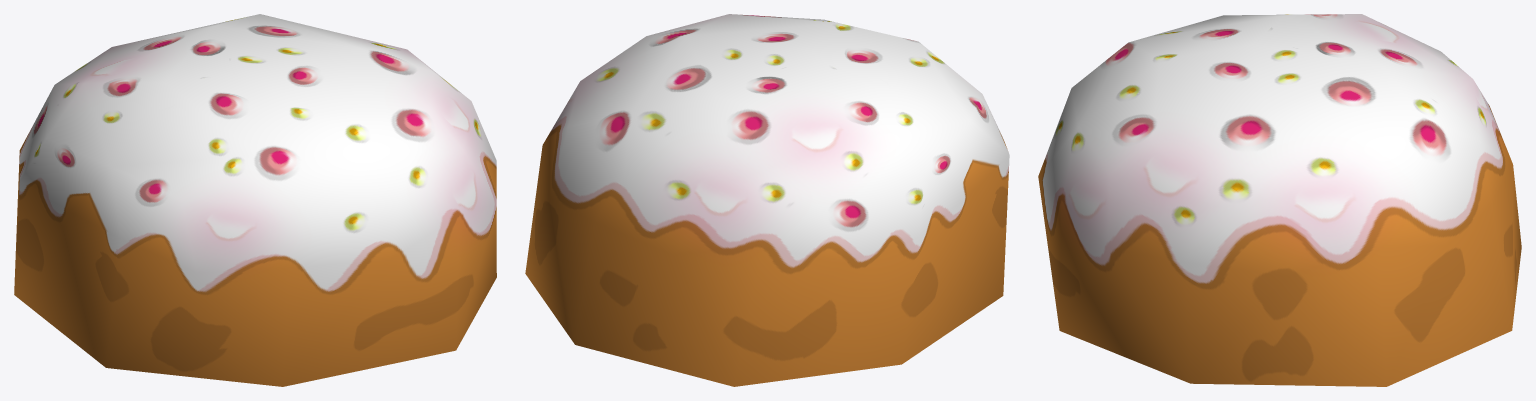
Rendered from Cake.fbx.
The picture shows the model from 3 angles, left to right: view 1: azimuth 30°, elevation 25°; view 2: azimuth 150°, elevation 25°; view 3: azimuth 270°, elevation 25°; orthographic projection. The views are drawn at different scales.
Visible parts, largest first — view 1: Cake; view 2: Cake; view 3: Cake.
Boxes of the visible parts, x1,y1,x2,y2 form: Cake: [14, 14, 496, 386]; Cake: [525, 14, 1009, 386]; Cake: [1038, 14, 1521, 386].
Size of the model in its own units: 286 by 158 by 296.
